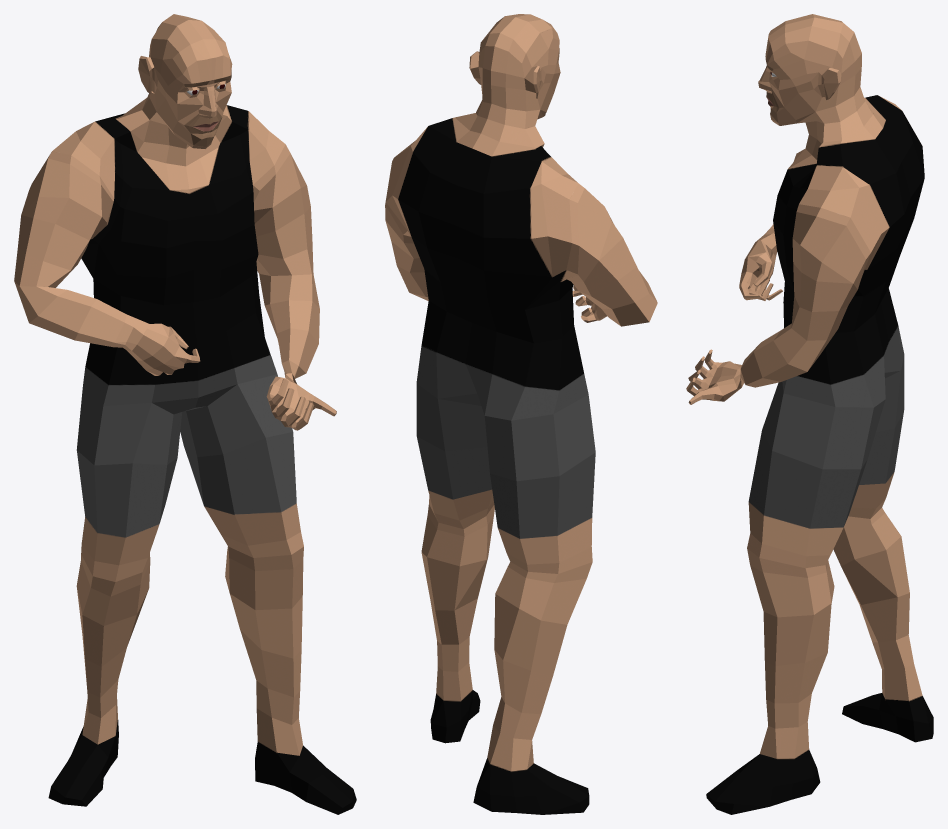
File: PlayerIdle(7).obj
The picture shows the model from 3 angles, left to right: view 1: azimuth 30°, elevation 25°; view 2: azimuth 150°, elevation 25°; view 3: azimuth 270°, elevation 25°; orthographic projection. The views are drawn at different scales.
Visible parts, largest first — view 1: Plane002; view 2: Plane002; view 3: Plane002.
Boxes of the visible parts, box(x1,y1,x2,y2) form: Plane002: box(14, 14, 356, 814); Plane002: box(385, 14, 657, 814); Plane002: box(686, 14, 933, 814).
Size of the model in its own units: 677 by 1807 by 548.
